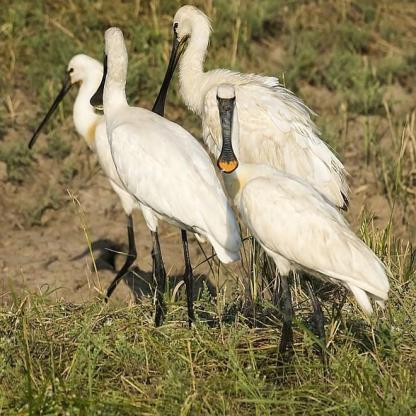Burung: (213, 84, 390, 372), (89, 26, 238, 323), (26, 54, 140, 292), (150, 5, 308, 114)
